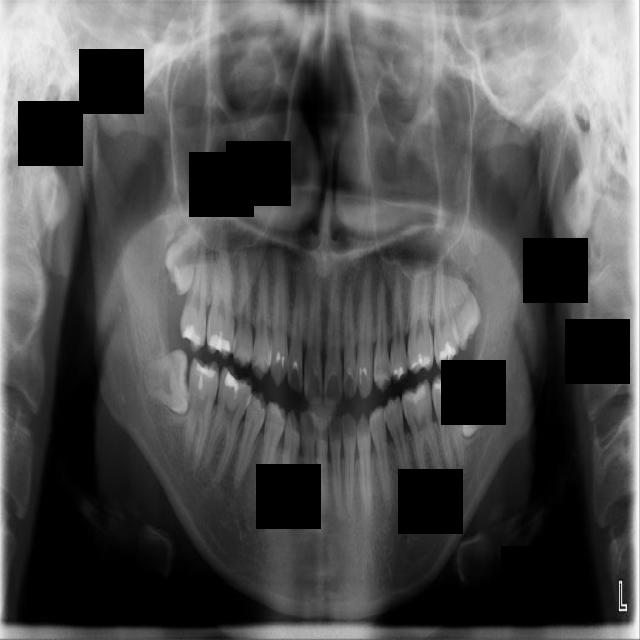3M ESPE Implant: (155, 215, 209, 299)
52: (205, 362, 263, 419), (184, 356, 223, 403), (402, 330, 438, 377), (429, 369, 464, 415), (205, 312, 238, 360), (431, 321, 462, 372), (179, 302, 207, 353), (268, 336, 289, 387), (286, 347, 305, 396), (354, 358, 375, 398), (389, 343, 409, 382)
73: (607, 554, 615, 580)
BioHorizons Implant: (433, 255, 460, 372)
BioLife Implant: (437, 251, 487, 352)
Biomet 3i Implant: (450, 370, 505, 443)
Blue Sky Bio Implant: (430, 370, 466, 478)
Caries: (180, 241, 208, 352)
Implant: (183, 357, 221, 470)
Keystone Dental Implant: (142, 348, 191, 416)
